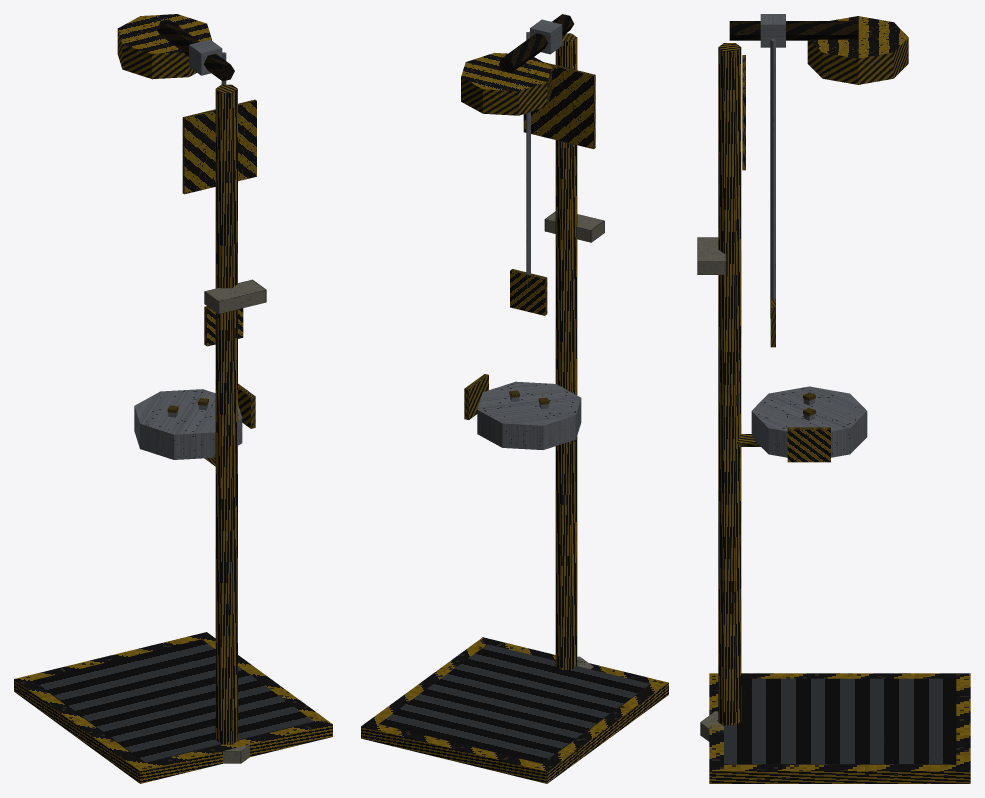
File: safety_shower_habitation_worn.glb
The picture shows the model from 3 angles, left to right: view 1: azimuth 30°, elevation 25°; view 2: azimuth 150°, elevation 25°; view 3: azimuth 270°, elevation 25°; orthographic projection. The views are drawn at different scales.
Visible parts, largest first — view 1: safety_shower_habitation_worn; view 2: safety_shower_habitation_worn; view 3: safety_shower_habitation_worn.
Part boxes in pixels (x1,y1,x2,y2): safety_shower_habitation_worn: [14, 14, 332, 783]; safety_shower_habitation_worn: [361, 14, 668, 783]; safety_shower_habitation_worn: [697, 14, 970, 783].
Bounding box in the file's own units: 0.6375 × 2.19 × 0.7563.
Materials: 4 (4 with a texture image).
